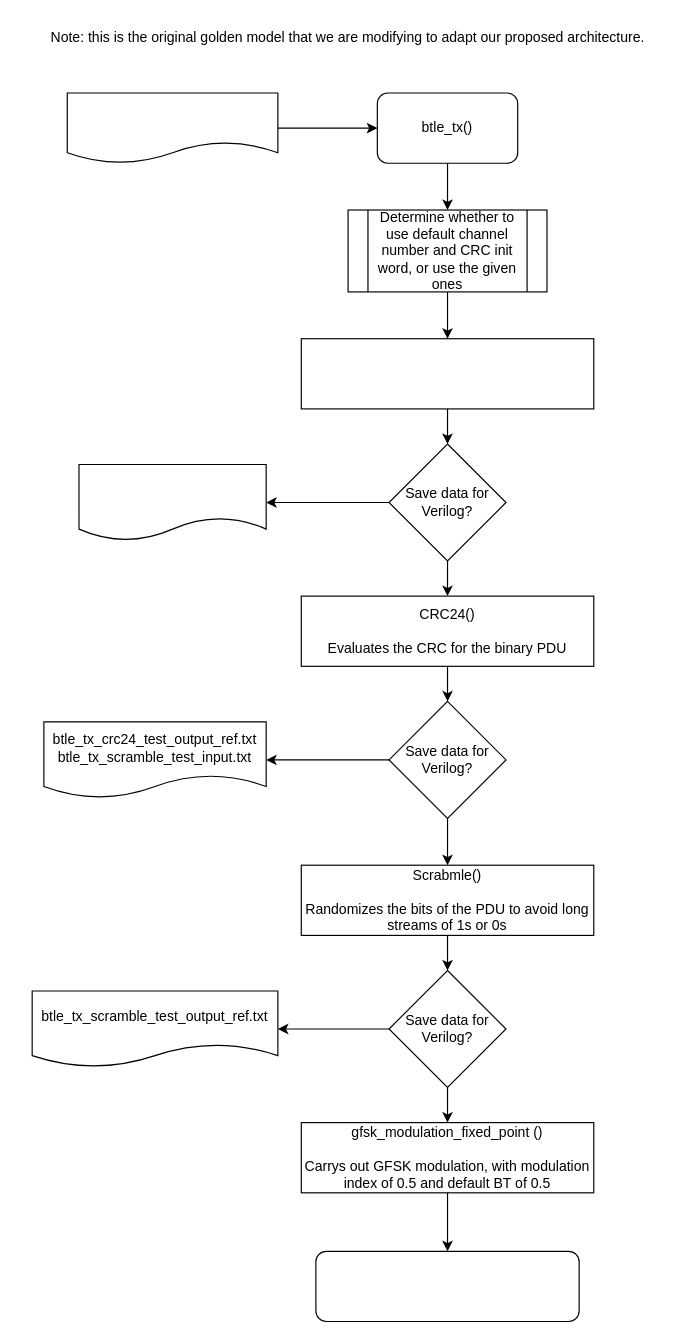
This 695x1342 diagram has some shape labels left out. Each missing label, with the centre of its shape:
"btle_tx_crc24_test_input.txt" belongs at pixel 172 502.
"hex_string_to_bit() Converts the given PDU from hex to binary" belongs at pixel 447 373.
"PDU Data (hex) Channel Number (if any) CRC Init Word (if any)" belongs at pixel 172 127.
"Upsampled version of the PDU Bits Cosine Components (I) Sine Components (Q)" belongs at pixel 447 1286.
